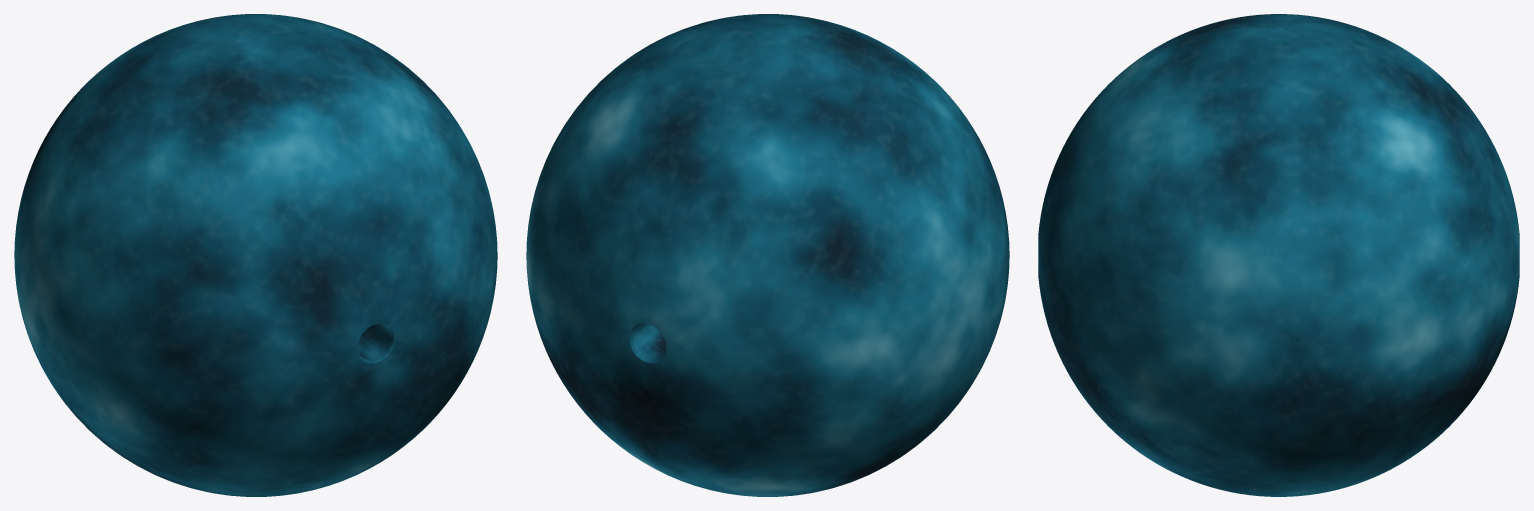
Rendered from blue-apatite-12mm.glb.
3 renders of one model, left to right at view 1: azimuth 30°, elevation 25°; view 2: azimuth 150°, elevation 25°; view 3: azimuth 270°, elevation 25°, orthographic.
Visible parts, largest first — view 1: blue-apatite.001; view 2: blue-apatite.001; view 3: blue-apatite.001.
Boxes of the visible parts, bbox=[...] form: blue-apatite.001: bbox=[14, 14, 497, 496]; blue-apatite.001: bbox=[526, 14, 1009, 496]; blue-apatite.001: bbox=[1038, 14, 1519, 496].
Bounding box in the file's own units: 0.012 × 0.012 × 0.012.
Materials: 2 (1 with a texture image).
